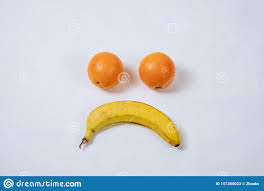banana: (78, 101, 181, 148)
tomato: (87, 52, 124, 90), (139, 51, 176, 89)
